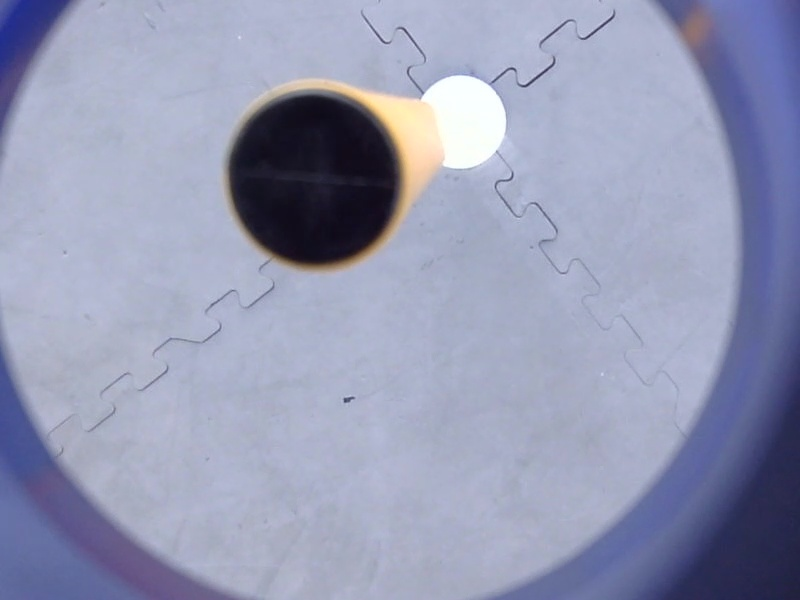tip: (212, 70, 416, 283)
